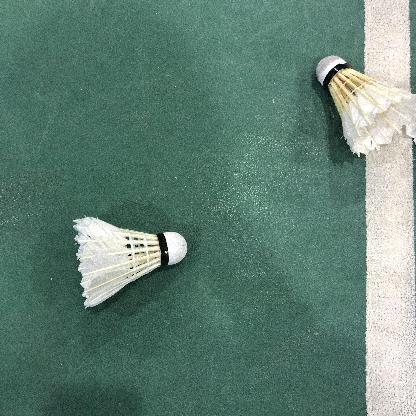ball_single: (73, 217, 187, 308), (316, 55, 414, 158)
